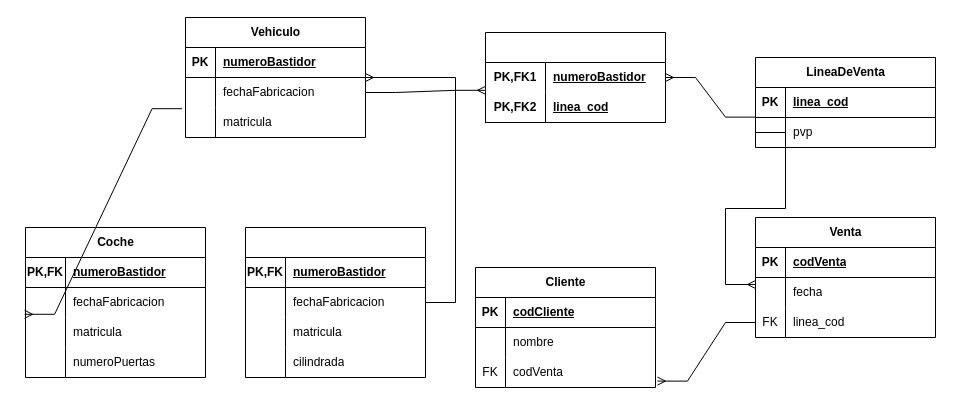
The diagram is 953 pixels wide and 407 high, and some of its shapes have lost their labels. The box of each missing label's shape, as (x1, y1, x2, y2) in pixels:
Motocicleta: (244, 226, 426, 378)
tiene: (484, 32, 666, 122)
